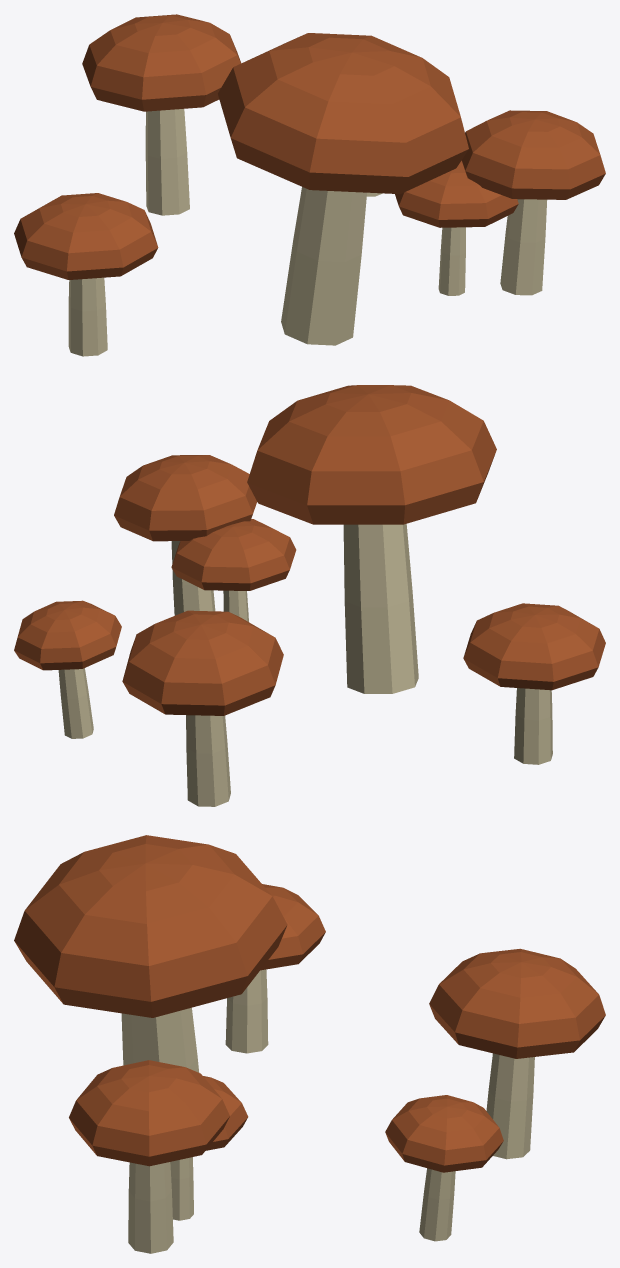
File: SM_Mushroom_Cluster.glb
3 renders of one model, top to bottom at view 1: azimuth 30°, elevation 25°; view 2: azimuth 150°, elevation 25°; view 3: azimuth 270°, elevation 25°, orthographic. The views are drawn at different scales.
Parts seen in each view (by area): view 1: SM_Mushroom_Cluster; view 2: SM_Mushroom_Cluster; view 3: SM_Mushroom_Cluster.
Part boxes in pixels (left/top/right/bottom): SM_Mushroom_Cluster: left=14, top=14, right=605, bottom=356; SM_Mushroom_Cluster: left=14, top=385, right=605, bottom=806; SM_Mushroom_Cluster: left=14, top=835, right=605, bottom=1253.
Size of the model in its own units: 0.7776 by 0.3964 by 0.719.
